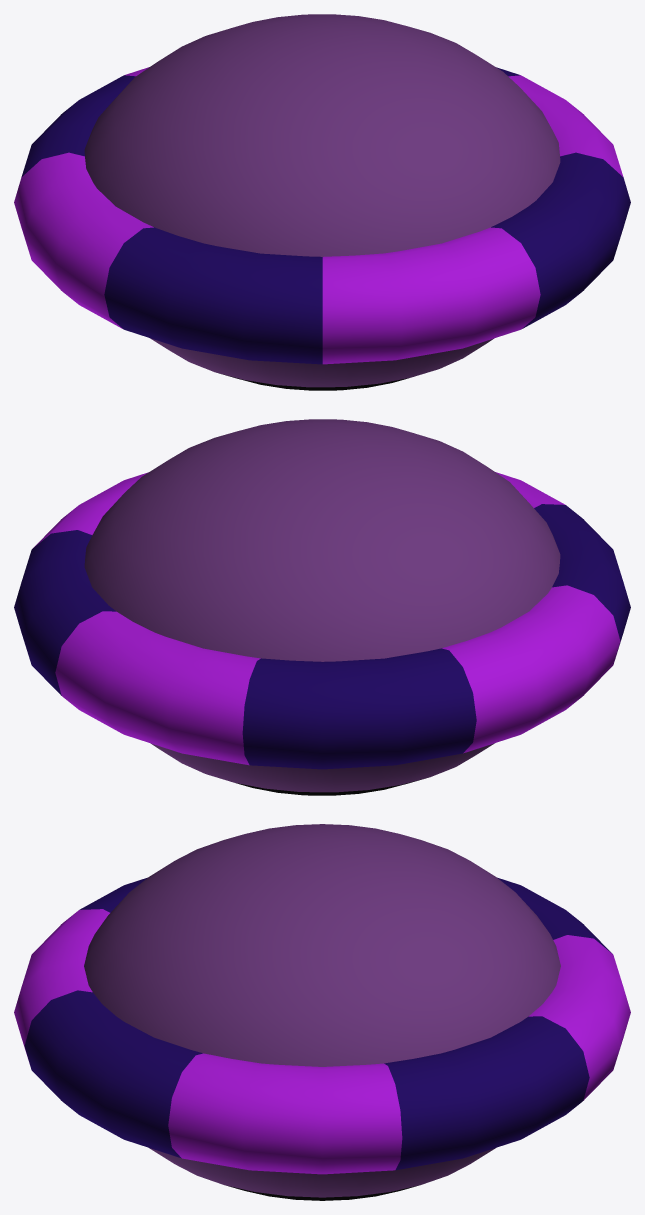
3 renders of one model, top to bottom at view 1: azimuth 30°, elevation 25°; view 2: azimuth 150°, elevation 25°; view 3: azimuth 270°, elevation 25°, orthographic.
Visible parts, largest first — view 1: Sphere001; view 2: Sphere001; view 3: Sphere001.
Boxes of the visible parts, left/top/right/bottom form: Sphere001: left=14, top=14, right=630, bottom=390; Sphere001: left=14, top=419, right=630, bottom=795; Sphere001: left=14, top=824, right=630, bottom=1200.
Size of the model in its own units: 84.19 by 46.9 by 84.19.
